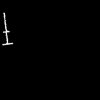double_crochet: (3, 13, 12, 44)
